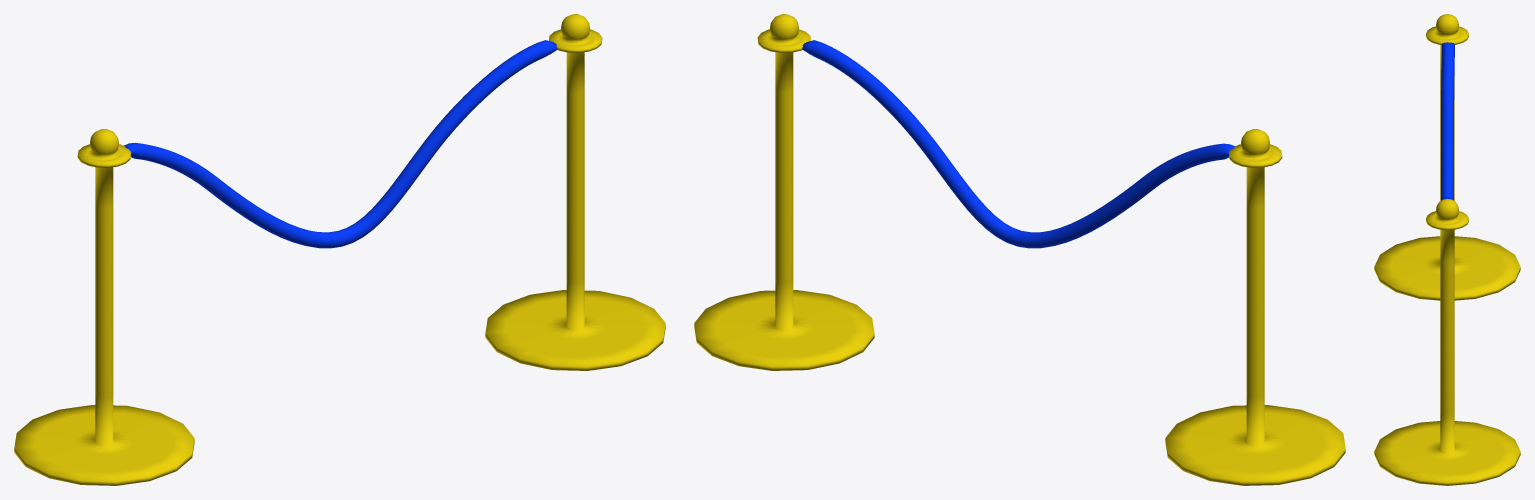
The model's file is Rope.fbx.
The picture shows the model from 3 angles, left to right: view 1: azimuth 30°, elevation 25°; view 2: azimuth 150°, elevation 25°; view 3: azimuth 270°, elevation 25°; orthographic projection. The views are drawn at different scales.
Visible parts, largest first — view 1: Pole, Rope; view 2: Pole, Rope; view 3: Pole, Rope.
Boxes of the visible parts, bbox=[...] form: Pole: bbox=[14, 14, 665, 485]; Rope: bbox=[123, 40, 557, 248]; Pole: bbox=[694, 14, 1345, 485]; Rope: bbox=[802, 40, 1234, 248]; Pole: bbox=[1374, 14, 1520, 485]; Rope: bbox=[1441, 42, 1454, 200].
Size of the model in its own units: 534 by 258 by 134.
